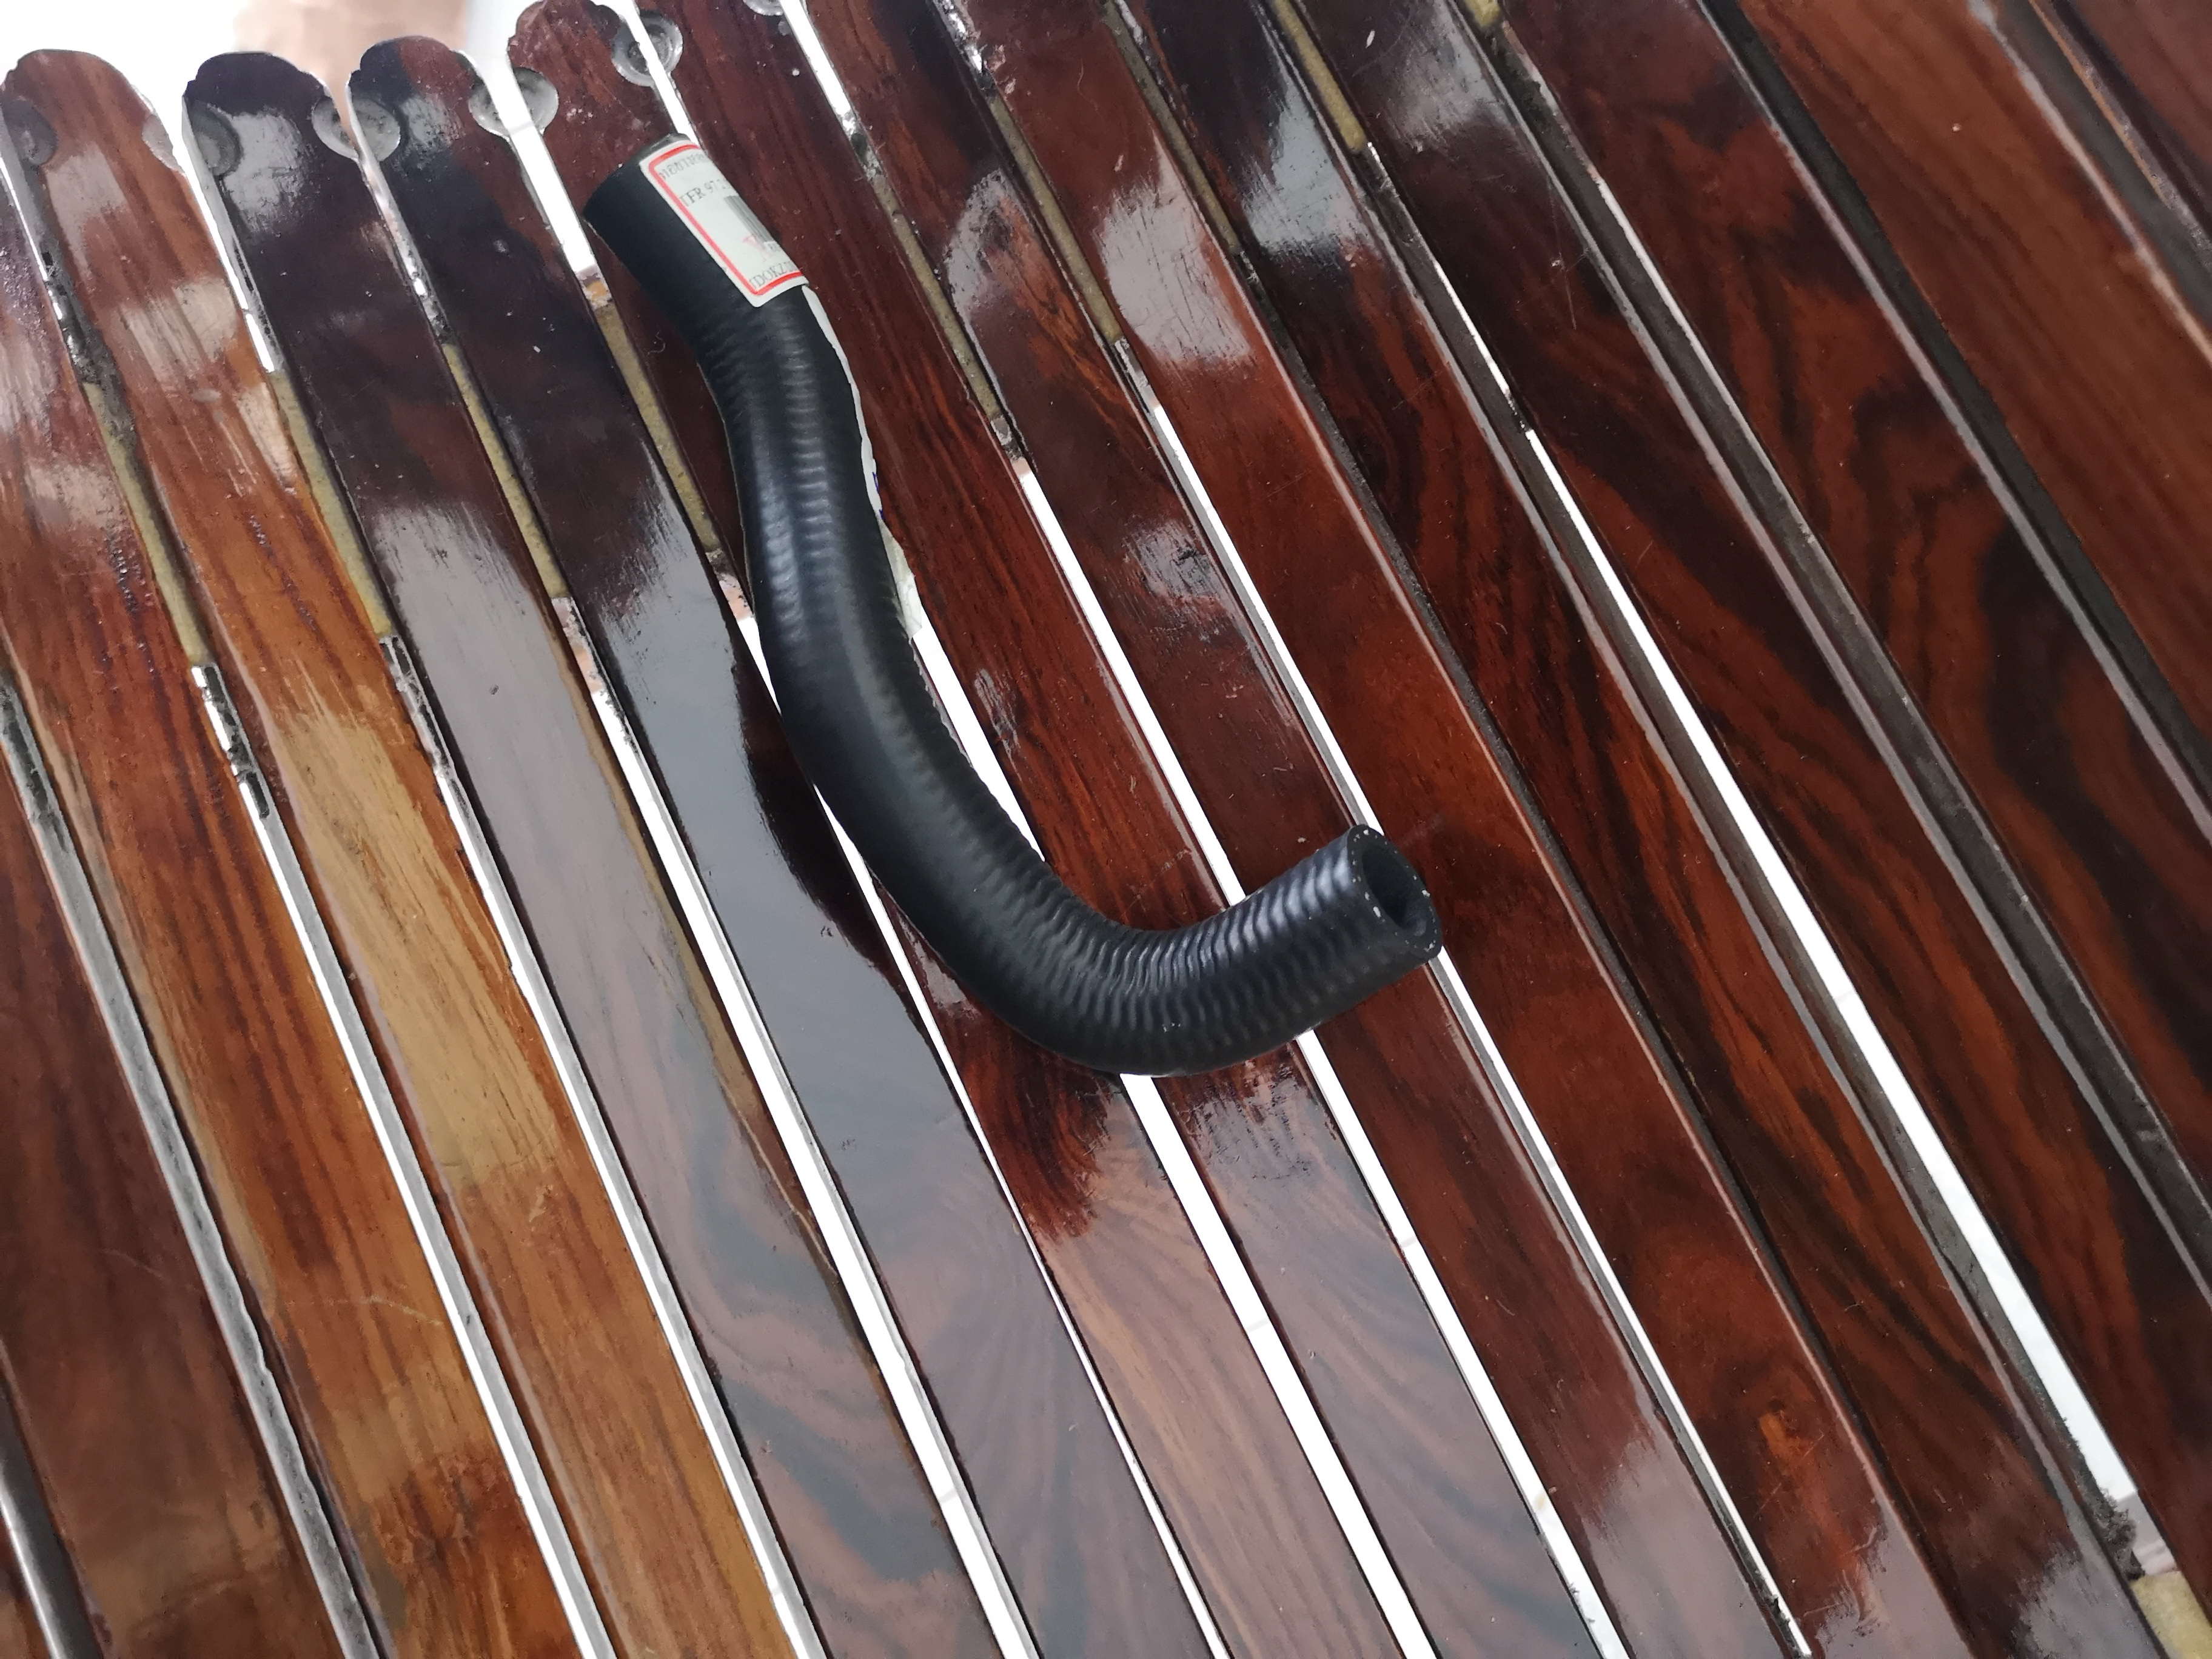ท่อยางน้ำมันเลี้ยงเทอร์โบ: (566, 115, 1449, 1103)
